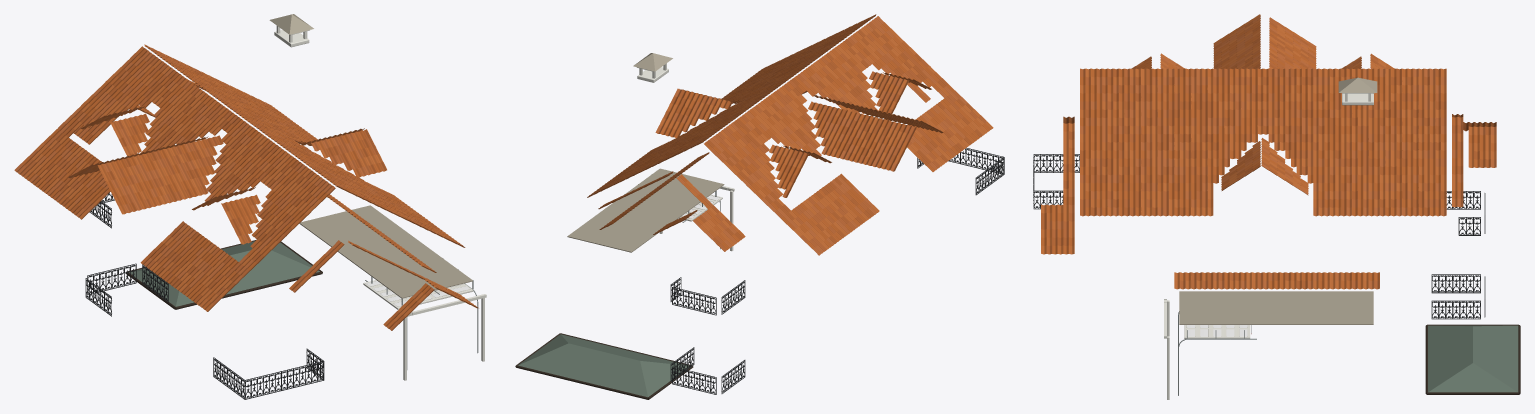
The model's file is envelope.glb.
3 views of the same model, side by side, from view 1: azimuth 30°, elevation 25°; view 2: azimuth 150°, elevation 25°; view 3: azimuth 270°, elevation 25° (orthographic). The views are drawn at different scales.
Visible parts, largest first — view 1: Projected clay tile shells, Garage flat roof gravel, Ironwork | KORKULUK, Green rear canopy, Hipped chimney cap; view 2: Projected clay tile shells, Green rear canopy, Garage flat roof gravel, Ironwork | KORKULUK, Canopy fascia.001; view 3: Projected clay tile shells, Garage flat roof gravel, Green rear canopy, Ironwork | KORKULUK, Hipped chimney cap.
Boxes of the visible parts, <box> form: Projected clay tile shells: <box>14,44,478,330</box>; Garage flat roof gravel: <box>299,205,472,298</box>; Ironwork | KORKULUK: <box>85,192,324,399</box>; Green rear canopy: <box>129,241,319,306</box>; Hipped chimney cap: <box>269,14,313,34</box>; Projected clay tile shells: <box>587,14,993,255</box>; Green rear canopy: <box>518,334,688,397</box>; Garage flat roof gravel: <box>567,168,724,252</box>; Ironwork | KORKULUK: <box>670,147,1004,394</box>; Canopy fascia.001: <box>516,365,648,399</box>; Projected clay tile shells: <box>1041,14,1496,289</box>; Garage flat roof gravel: <box>1179,291,1373,324</box>; Green rear canopy: <box>1428,325,1518,392</box>; Ironwork | KORKULUK: <box>1033,154,1485,319</box>; Hipped chimney cap: <box>1338,77,1377,92</box>.
Bounding box in the file's own units: 13.66 × 11.67 × 17.98.
